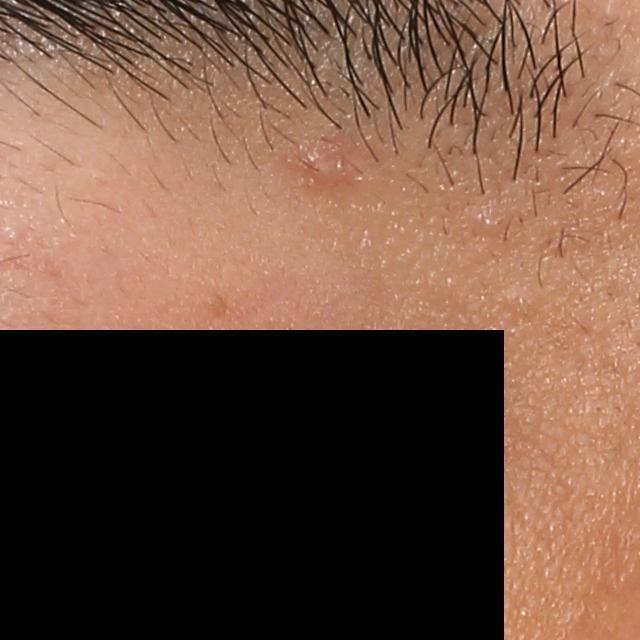comedo: (474, 207, 504, 238)
papule: (302, 148, 346, 190)
